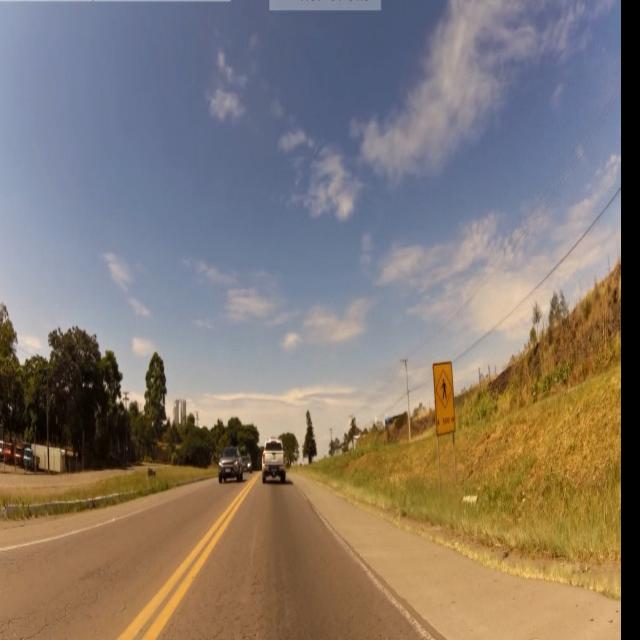A-32a: (435, 369, 454, 407)
